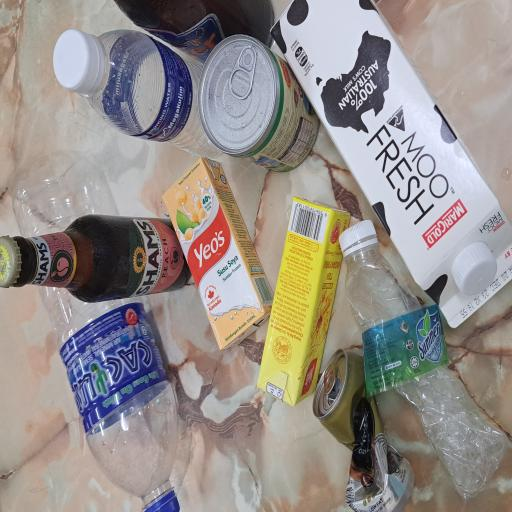can: (257, 269, 358, 423), (0, 410, 124, 512)
drink carton: (135, 362, 384, 512), (116, 215, 267, 354), (78, 342, 236, 464)
glass bottle: (157, 0, 229, 258)
plastic bottle: (10, 14, 268, 233), (274, 111, 364, 306), (7, 461, 195, 512)
plastic bottle cap: (318, 72, 362, 131), (191, 446, 222, 504), (194, 448, 218, 512), (0, 184, 13, 239)
pop tab: (309, 300, 352, 343)
